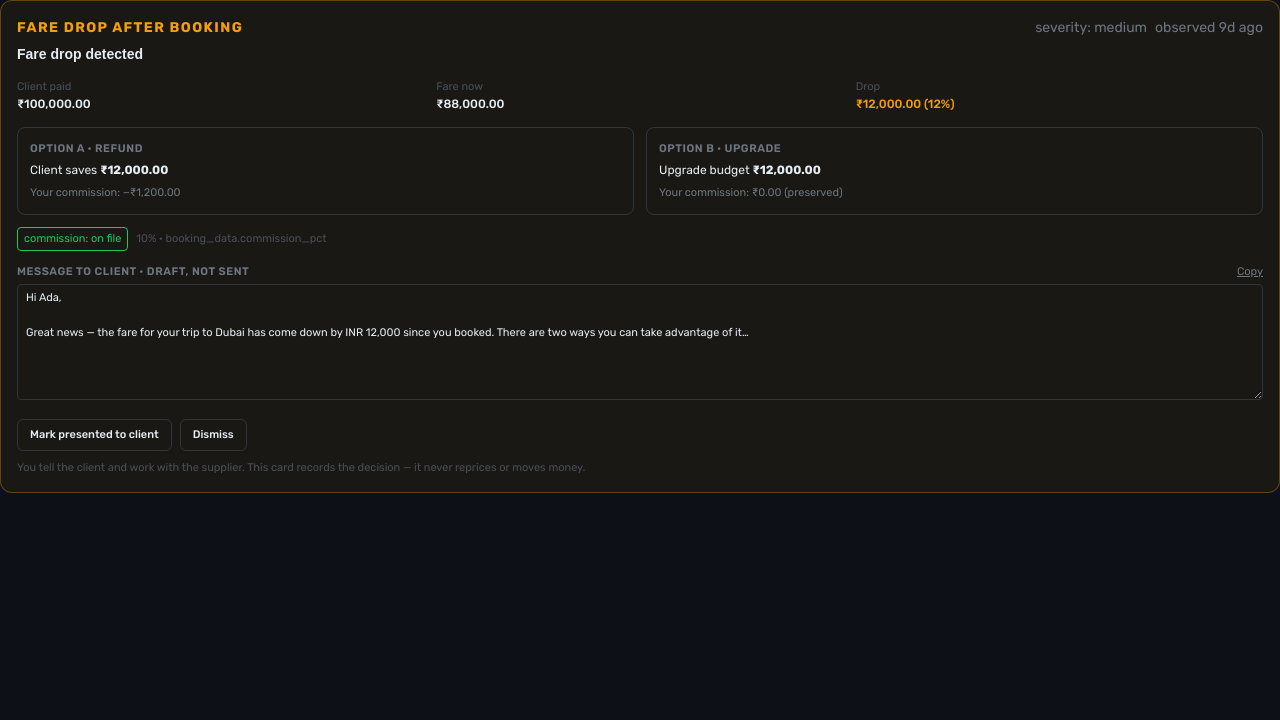
FareDropDecisionCard › offers only the legal next steps and sends a compare-and-set transition
Expected: the element with test id "fare-drop-options" is shown, [17,127,1263,251]
Expected: the button with test id "fare-drop-action-dismissed" is shown, [180,419,247,451]
What coordinates should you click on to do the following:
click the button with test id "fare-drop-action-presented"
I would click on:
 (94, 435)
Its box is [17,419,172,451].
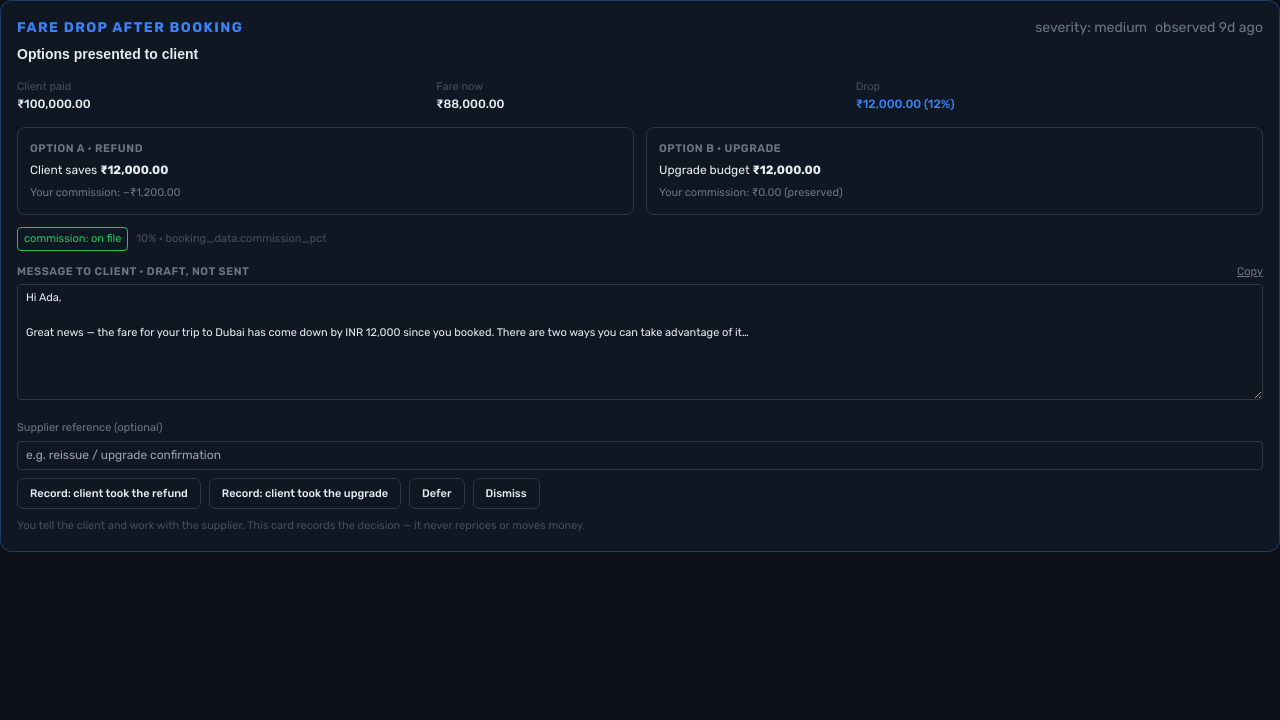
Now the text "Options presented to client" is shown, box [17,46,198,62]
